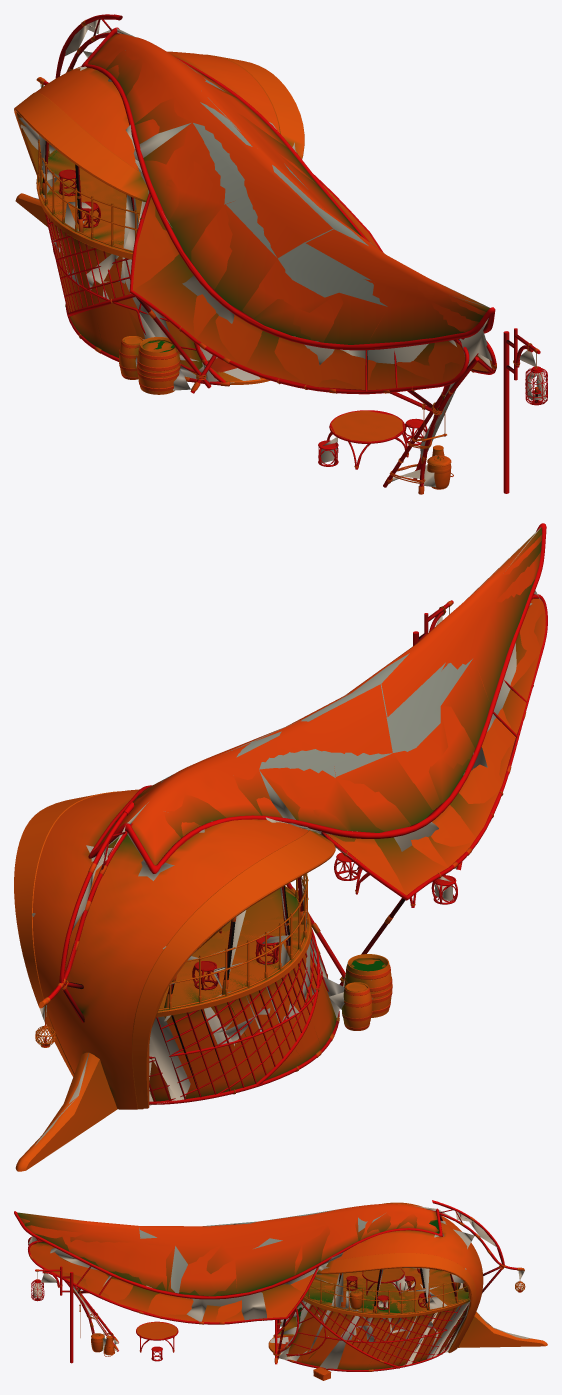
Rendered from KB3D_GAE_BldgSM_F.glb.
3 renders of one model, top to bottom at view 1: azimuth 30°, elevation 25°; view 2: azimuth 150°, elevation 25°; view 3: azimuth 270°, elevation 25°, orthographic. The views are drawn at different scales.
Visible parts, largest first — view 1: L0, L1, L2; view 2: L0, L1, L2; view 3: L0, L1, L2.
Boxes of the visible parts, x1=… form: L0: x1=14, y1=14, x2=547, y2=494; L1: x1=14, y1=16, x2=547, y2=493; L2: x1=14, y1=19, x2=545, y2=487; L0: x1=14, y1=523, x2=547, y2=1171; L1: x1=15, y1=527, x2=547, y2=1170; L2: x1=32, y1=527, x2=540, y2=1145; L0: x1=14, y1=1200, x2=547, y2=1380; L1: x1=17, y1=1204, x2=544, y2=1380; L2: x1=17, y1=1206, x2=531, y2=1372.
Bounding box in the file's own units: 7.78 × 7.79 × 25.51.
